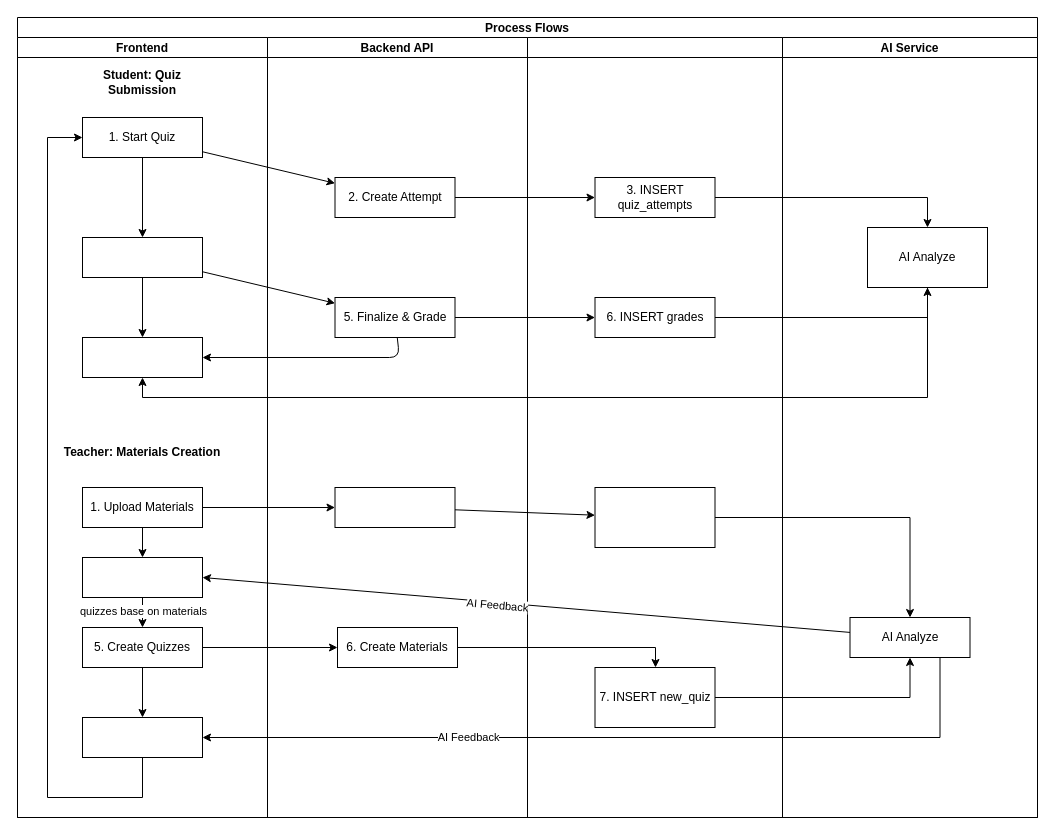
Image size: 1055x835. Some labels were removed from this diagram. Each missing label, with the box of its shape:
2. Create Materials: (334, 486, 455, 528)
3. INSERT new_materials: (594, 486, 715, 548)
4. Publish Materials: (82, 556, 202, 598)
4. Submit Answers: (82, 236, 202, 278)
5. Publish Quizzes: (82, 716, 202, 758)
7. Display Score: (82, 336, 202, 378)
Database: (526, 36, 782, 818)
